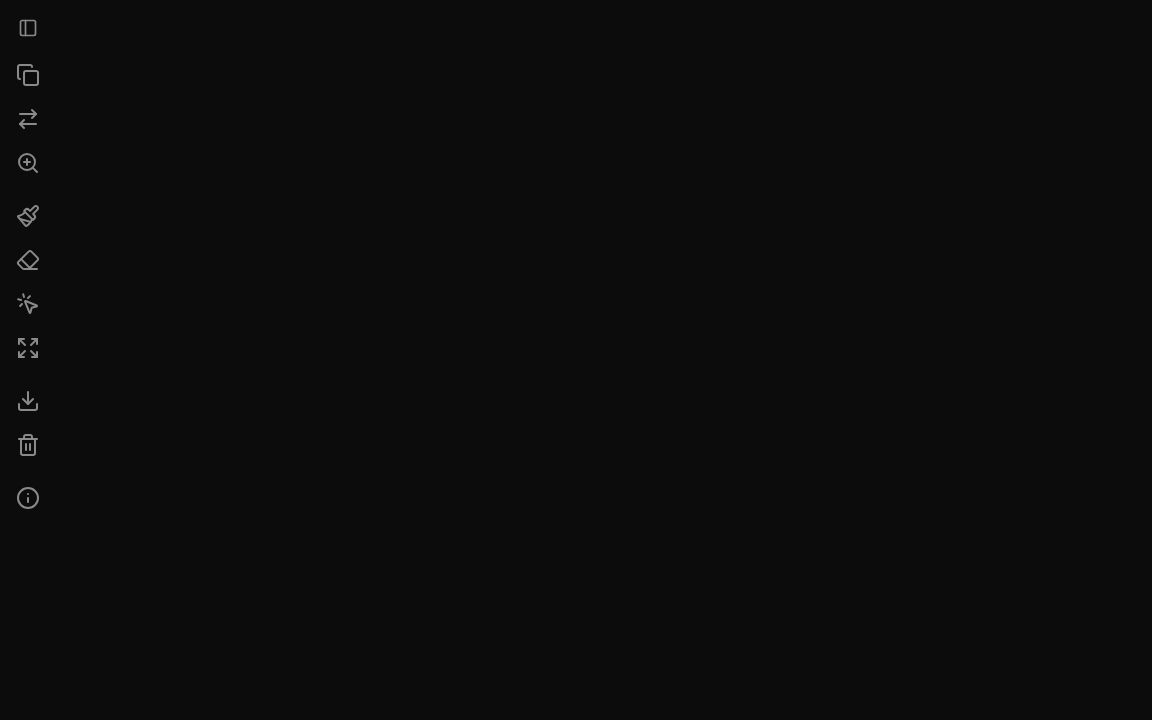
Test: CanvasToolbar › AC-7: should close AlertDialog without action when Cancel is clicked
# Open the dialog
Click the button with test id "toolbar-delete". click: (28, 445)
box: top-left (0, 423), bottom-right (56, 467)
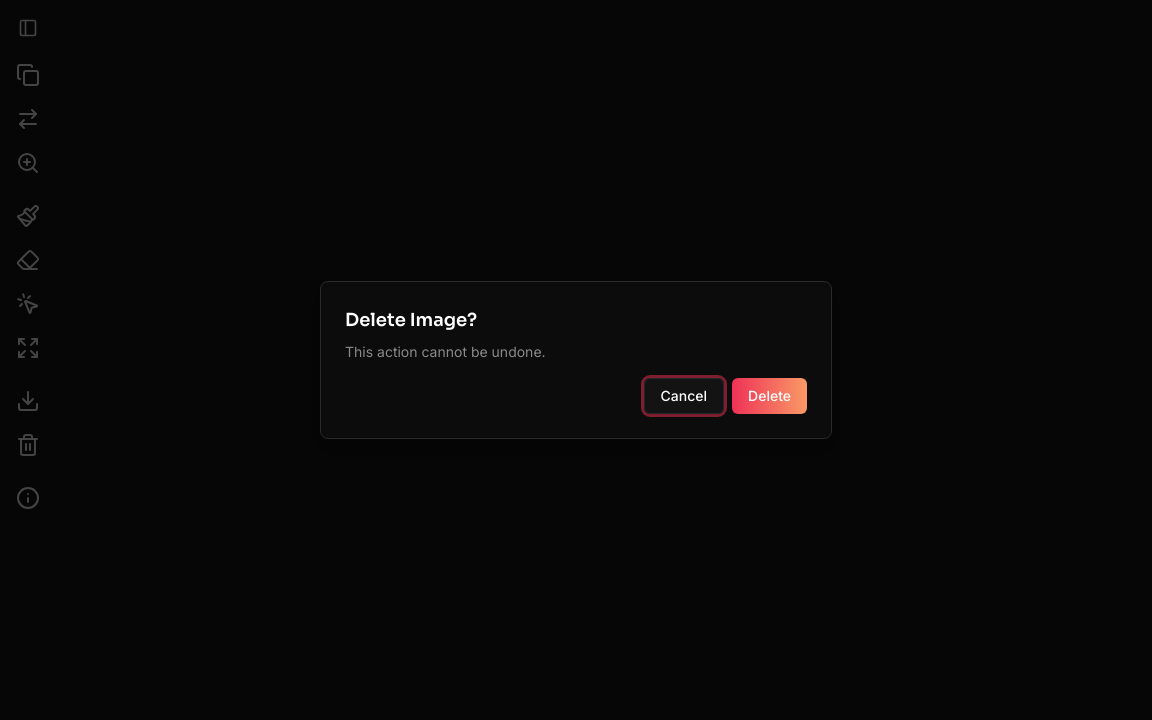
Expected: the heading "Delete Image?" is shown, top-left (345, 309), bottom-right (477, 331)
# Click Cancel
Click the button "Cancel". click: (684, 396)
box: top-left (644, 378), bottom-right (724, 414)
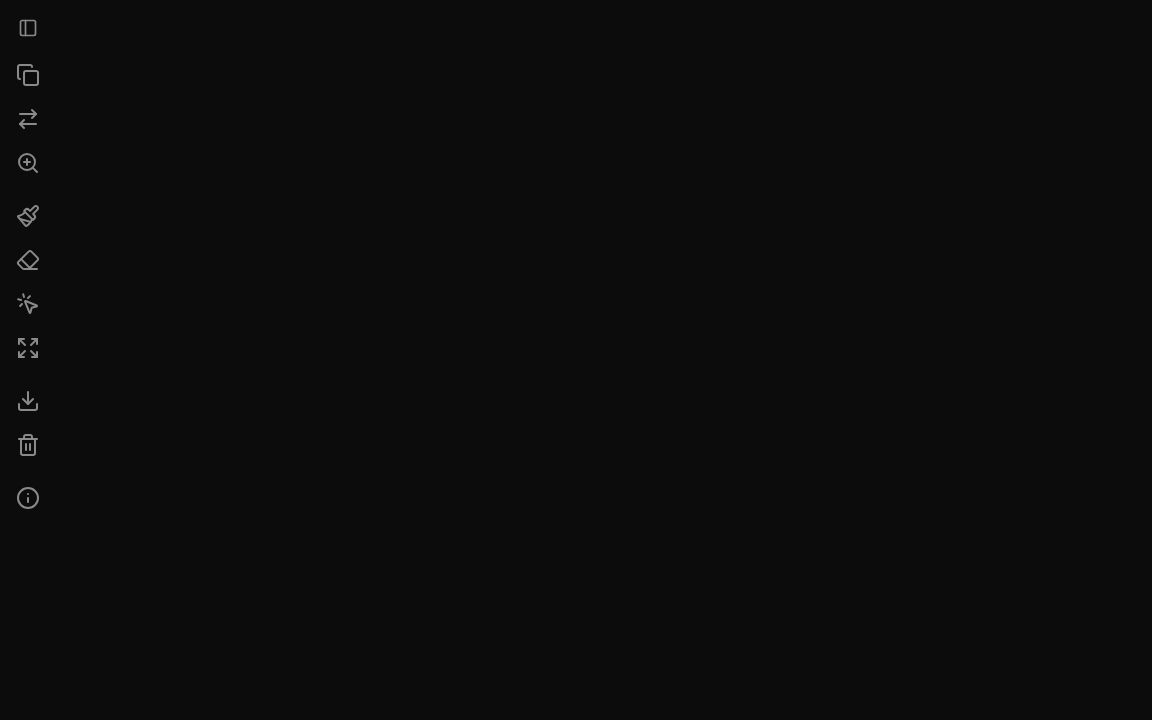
Expected: the heading "Delete Image?" is gone
